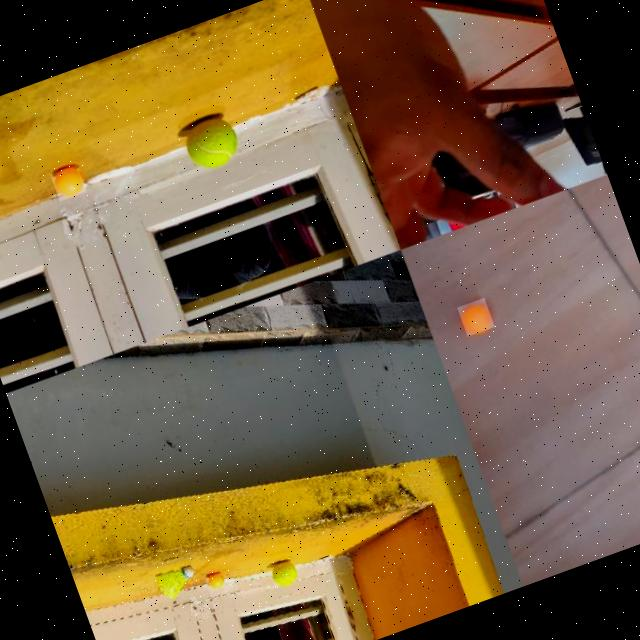ping-pong-ball: (457, 296, 496, 336), (49, 163, 88, 201), (205, 572, 226, 592)
